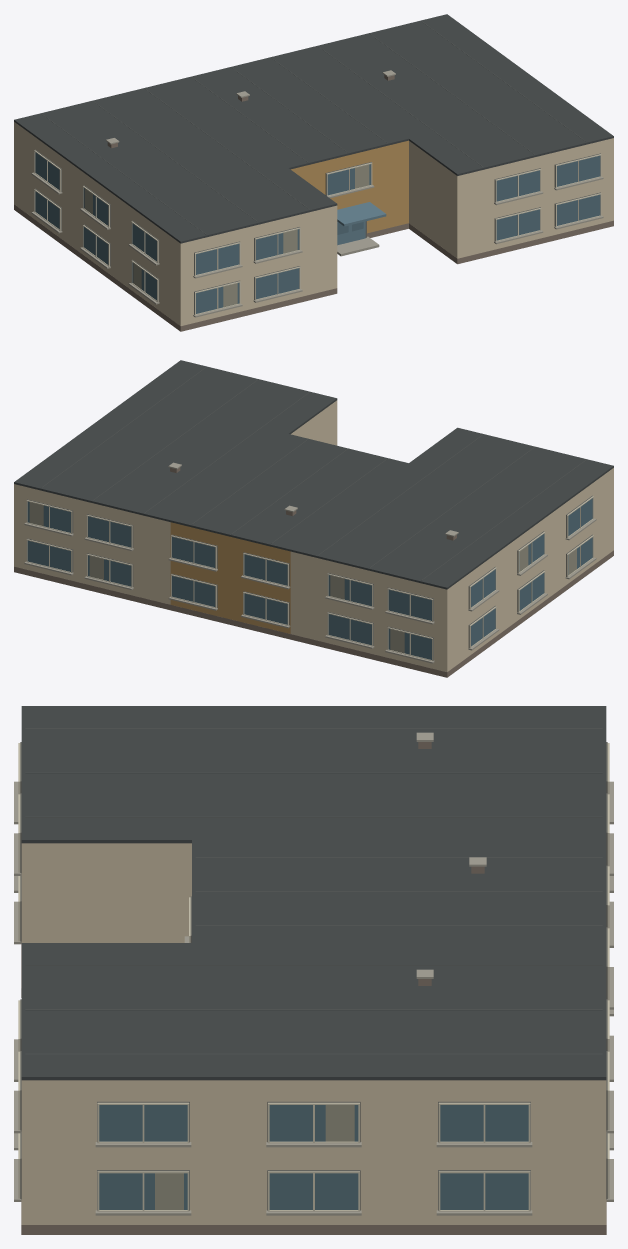
File: kindergarten.glb
3 renders of one model, top to bottom at view 1: azimuth 30°, elevation 25°; view 2: azimuth 150°, elevation 25°; view 3: azimuth 270°, elevation 25°, orthographic. The views are drawn at different scales.
Parts seen in each view (by area): view 1: kindergarten; view 2: kindergarten; view 3: kindergarten.
Boxes of the visible parts, bbox=[...] form: kindergarten: bbox=[14, 14, 613, 331]; kindergarten: bbox=[14, 360, 613, 677]; kindergarten: bbox=[14, 706, 613, 1234].
Size of the model in its own units: 36.62 by 7.69 by 24.62.
